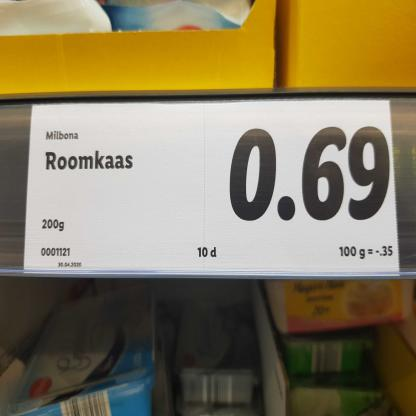prtg: (24, 101, 400, 278)
